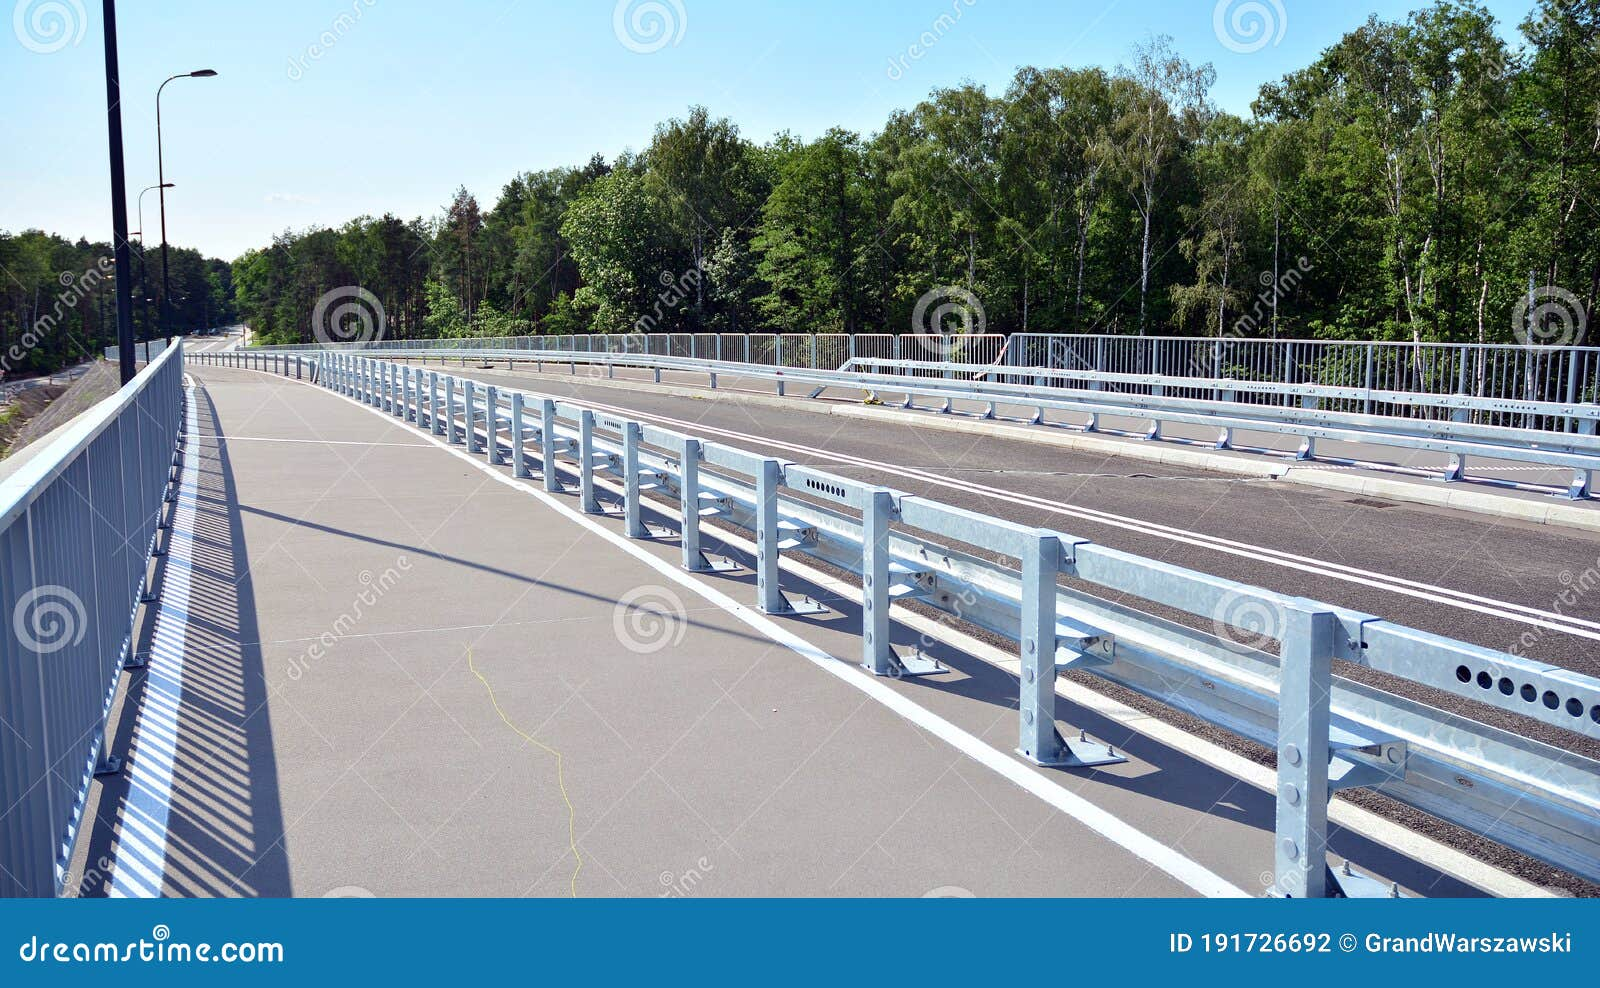not_damaged: (318, 215, 1514, 909)
